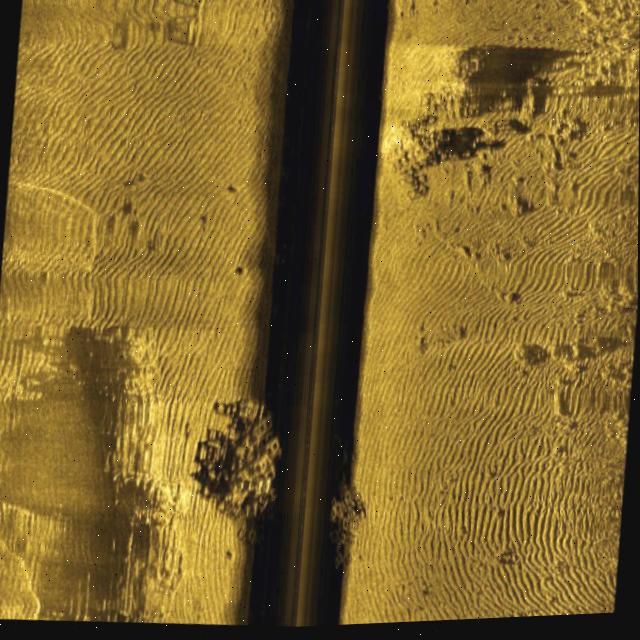artificial reef: (206, 392, 289, 554), (320, 476, 376, 581)
